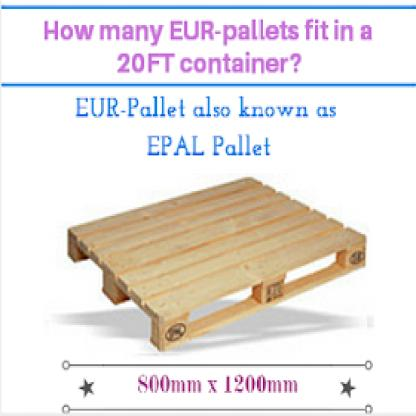BoxFace: (67, 174, 370, 355)
